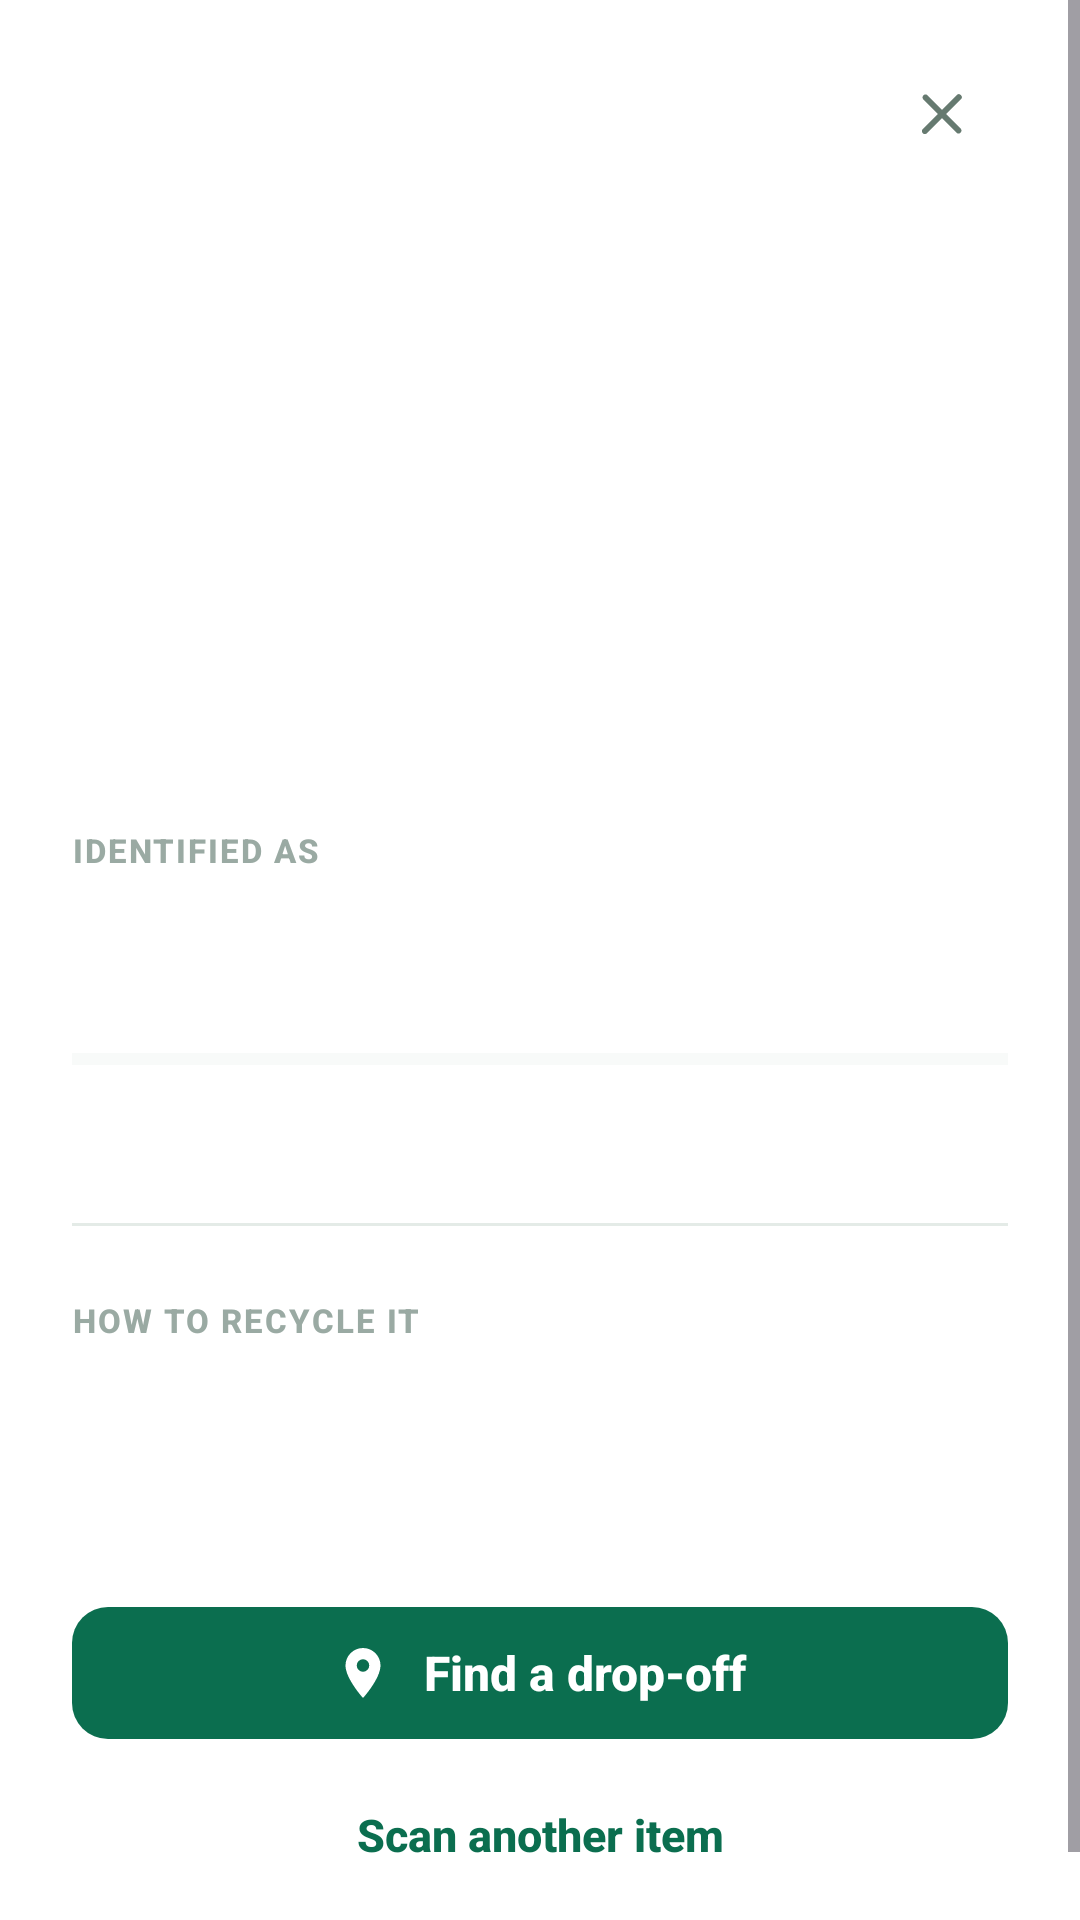

Locate icon controls on the screen. Image size 1080 × 1920, boxes as [left=x1, top=y1, right=x2, bottom=y2].
Close: [left=922, top=94, right=962, bottom=134]
